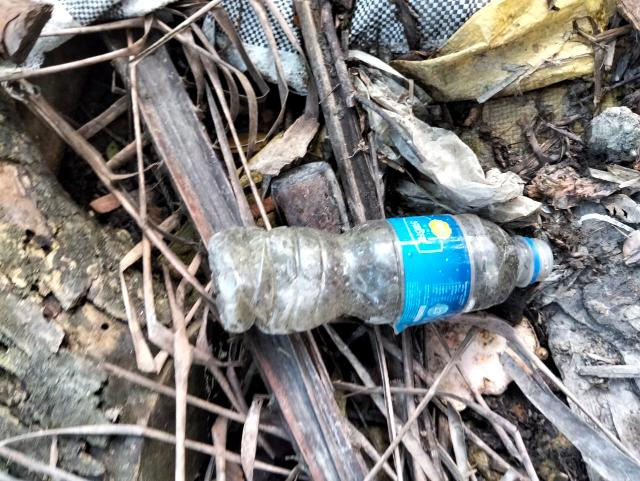bottle: (207, 216, 553, 339)
